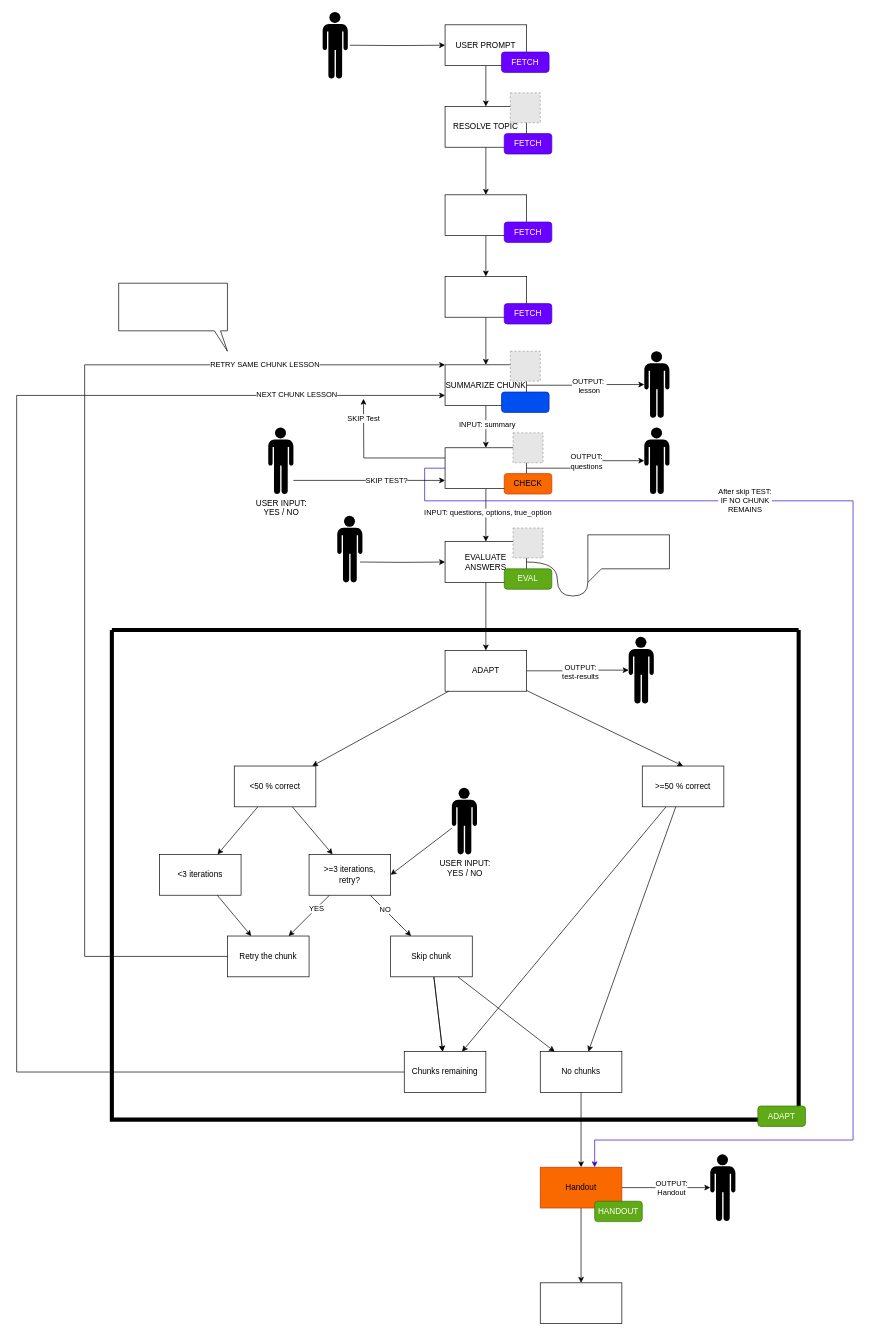
Image size: 870x1336. Some labels were removed from this diagram. Grey dashed boxes stand in for pictures. Each missing label, with the centre of its shape:
DONE: (x=581, y=1303)
GENERATE TEST: (x=485, y=468)
MULT-CHOI: no sem needed!: (x=628, y=558)
SPLIT TO CHUNKS: (x=485, y=296)
Summarize chunk again but pay focus on wrong answered questions: (x=172, y=317)
TEACH: (x=525, y=401)
USER INPUT: TEXT: (x=334, y=45)
USER INPUT: TEXT / OPTIONS: (x=349, y=548)
WIKI FETCH: (x=485, y=215)
